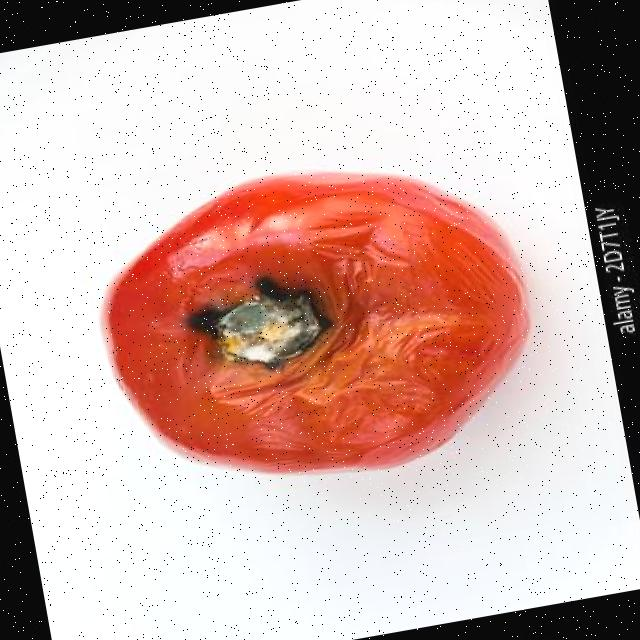overripe: (76, 132, 549, 510)
